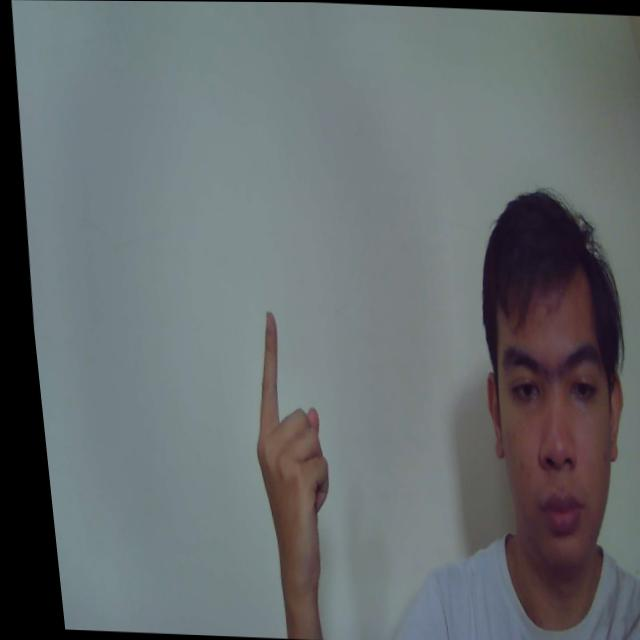D: (231, 310, 335, 581)
